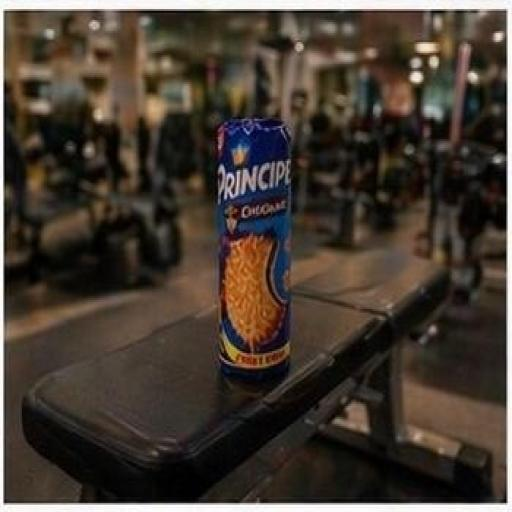prince: (184, 69, 400, 408)
